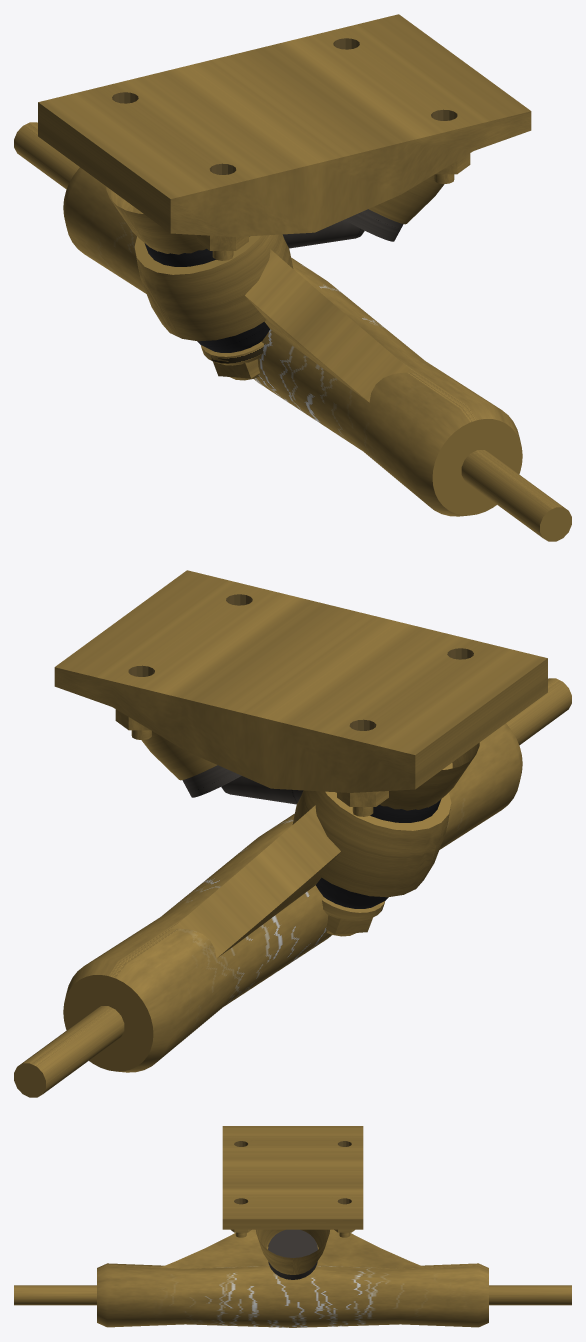
Rendered from sk8_truck_159_patina.glb.
The picture shows the model from 3 angles, top to bottom: view 1: azimuth 30°, elevation 25°; view 2: azimuth 150°, elevation 25°; view 3: azimuth 270°, elevation 25°; orthographic projection. The views are drawn at different scales.
Visible parts, largest first — view 1: SM_Truck_159; view 2: SM_Truck_159; view 3: SM_Truck_159.
Boxes of the visible parts, left/top/right/bottom form: SM_Truck_159: left=14, top=14, right=571, bottom=541; SM_Truck_159: left=14, top=570, right=571, bottom=1097; SM_Truck_159: left=14, top=1126, right=571, bottom=1327.
Size of what is drawn, in the model's own units: 0.088 by 0.066 by 0.2222.
1 material, 1 textured.
